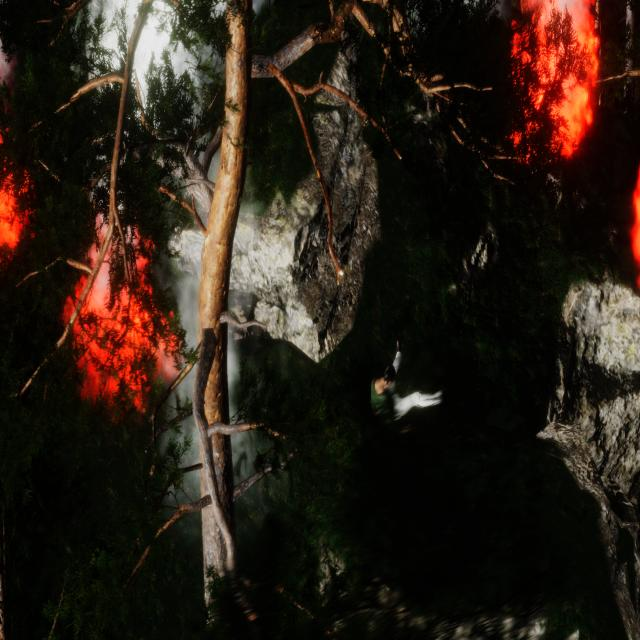Human: (365, 330, 450, 441)
